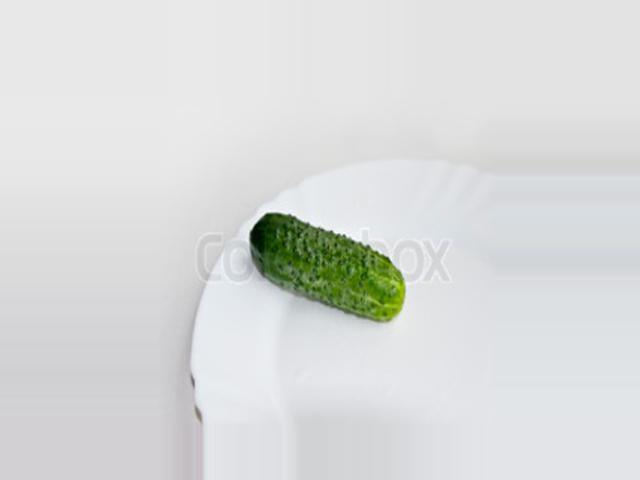cucumber: (251, 213, 404, 322)
